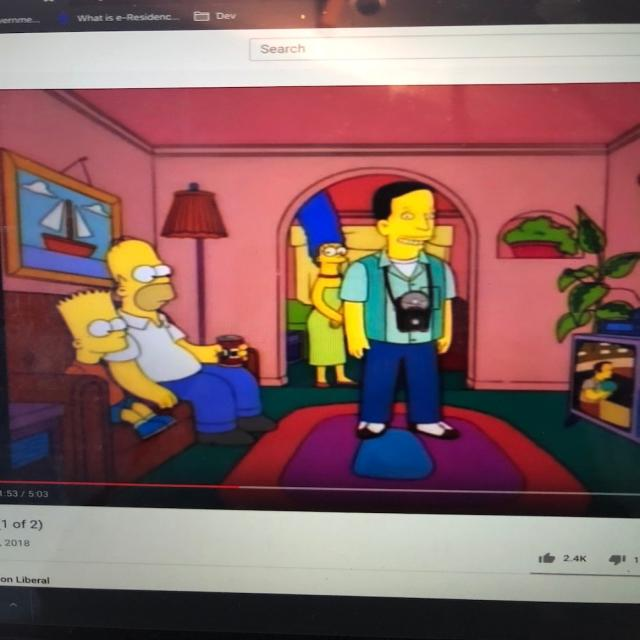Bart Simpson: (51, 284, 132, 367)
Homer Simpson: (102, 232, 181, 323)
Marge Simpson: (292, 188, 352, 280)
